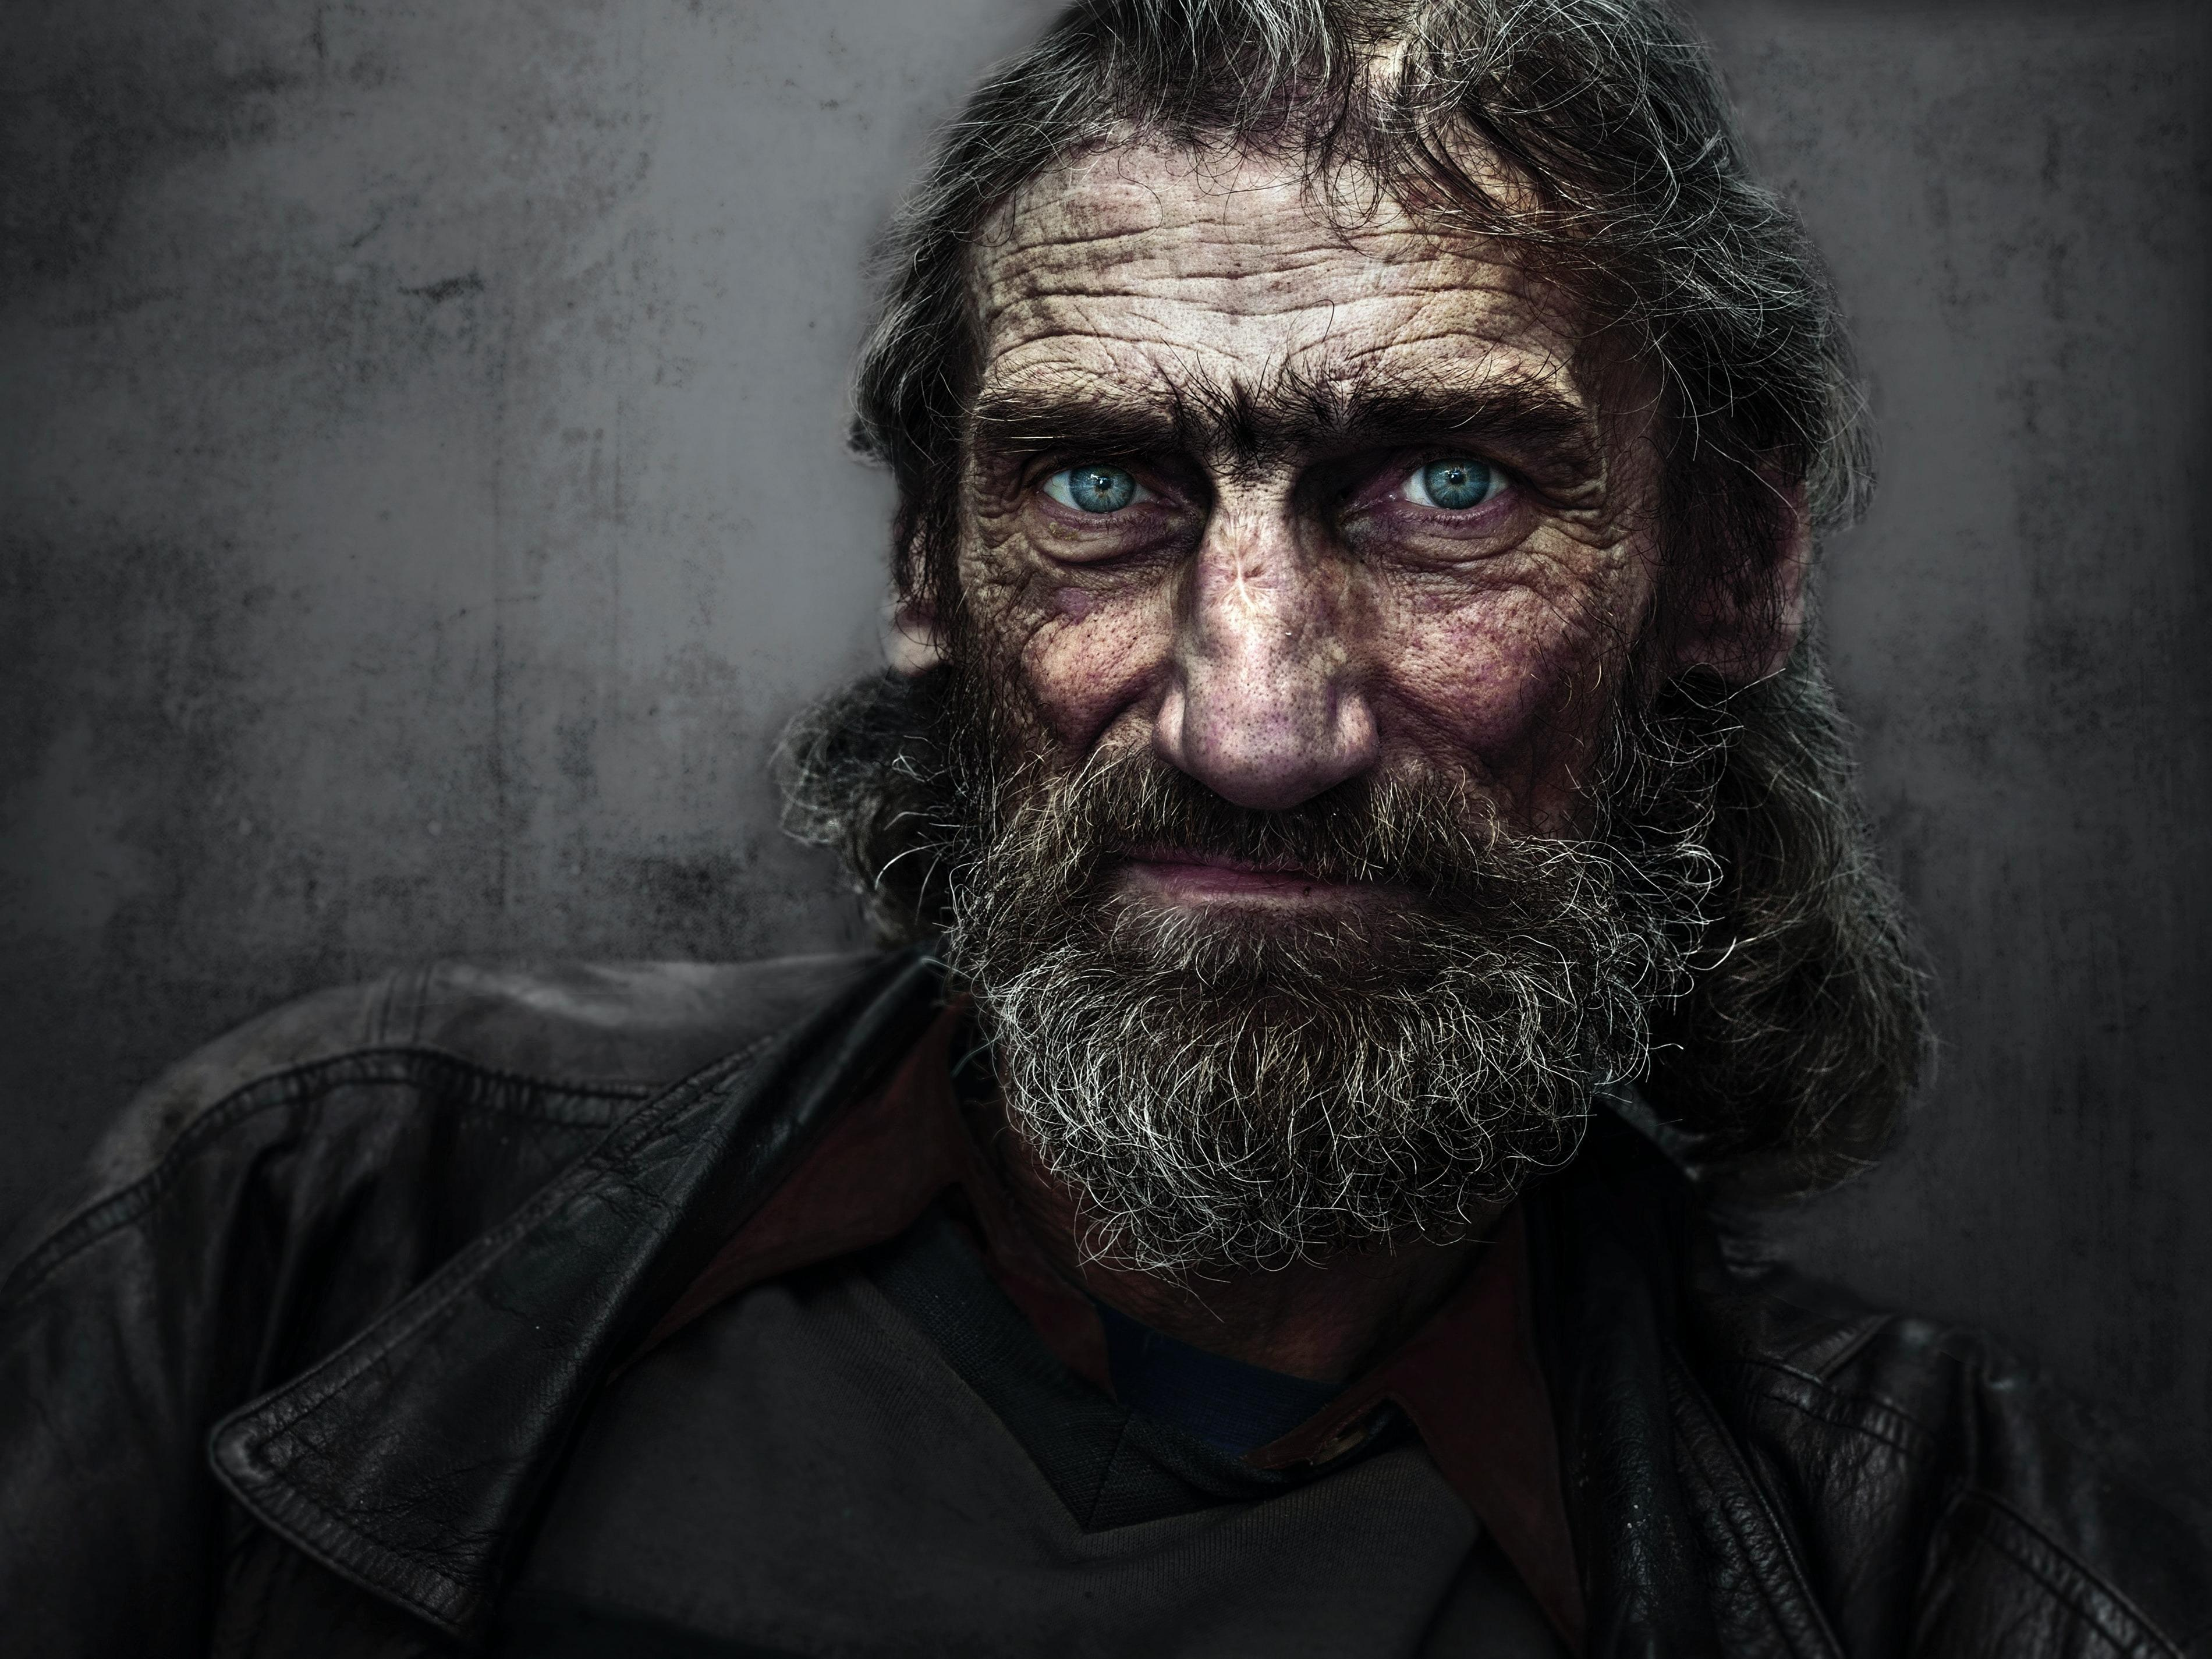Wrinkles: (989, 328, 1198, 364), (993, 227, 1151, 260), (1346, 331, 1508, 357), (1214, 293, 1385, 317), (1428, 286, 1562, 310), (998, 288, 1132, 310), (1188, 258, 1332, 279), (1376, 305, 1428, 338), (988, 267, 1054, 286), (1271, 247, 1355, 254)
